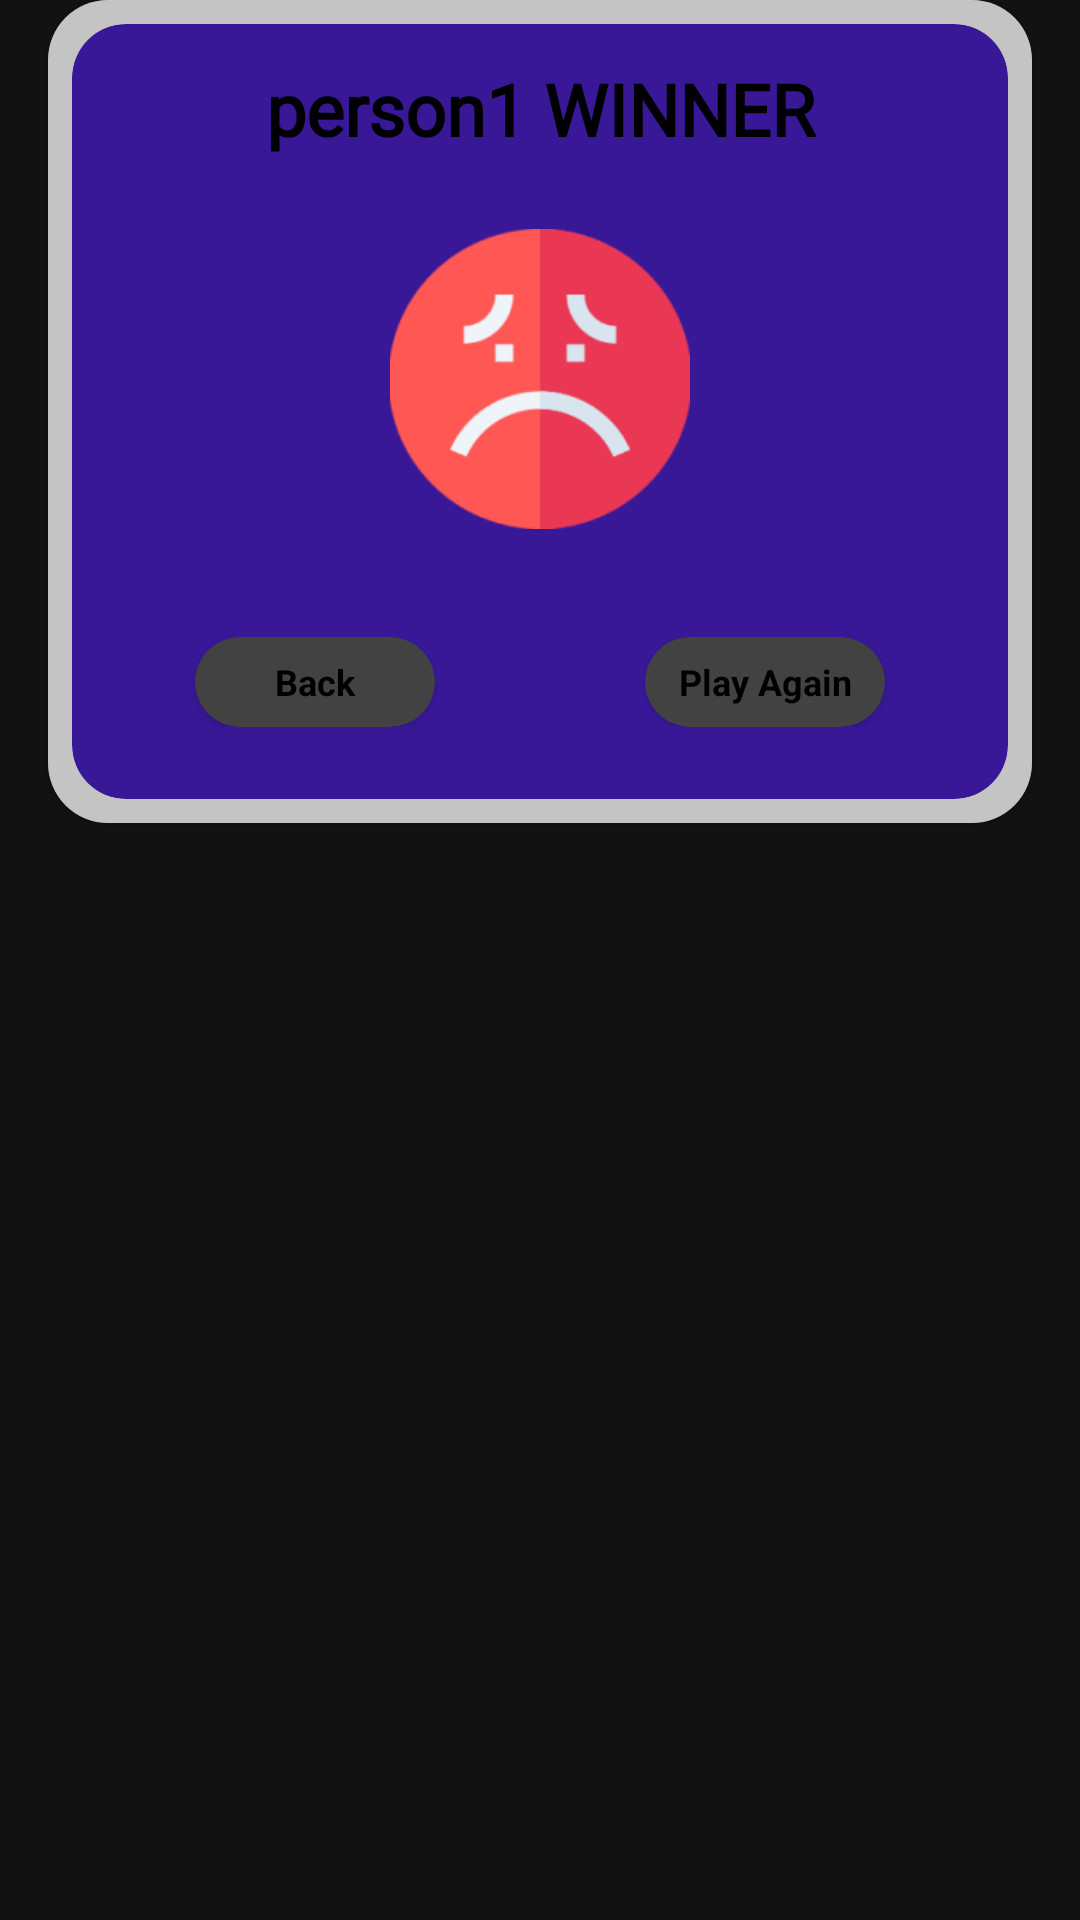

Icons on this 1080w x 1920h Android screen, each with its box as (x1, y1, x2, y2):
lost: (390, 229, 690, 529)
